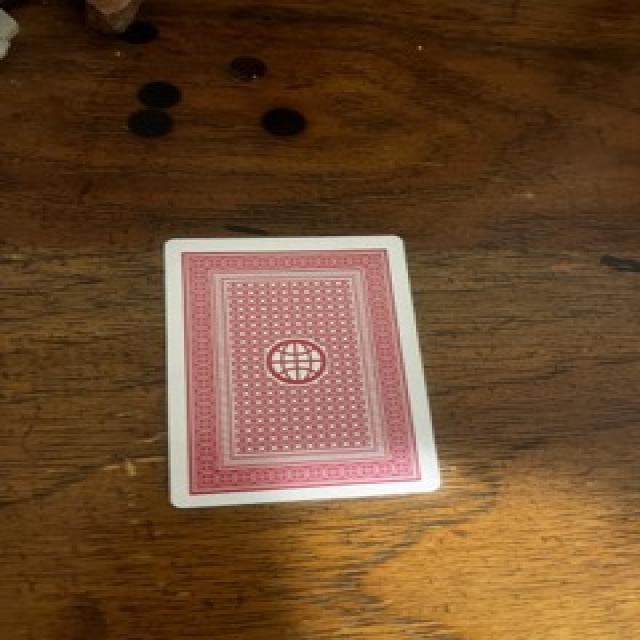card back: (167, 238, 437, 508)
